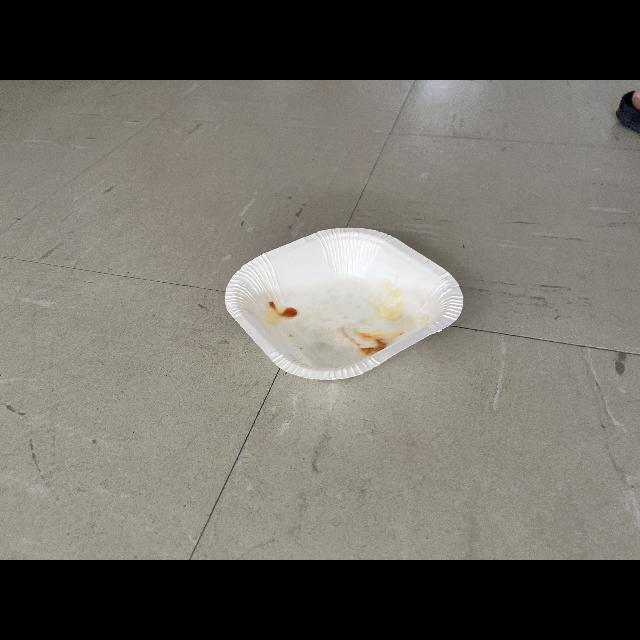cardboard_bowl: (220, 222, 472, 384)
